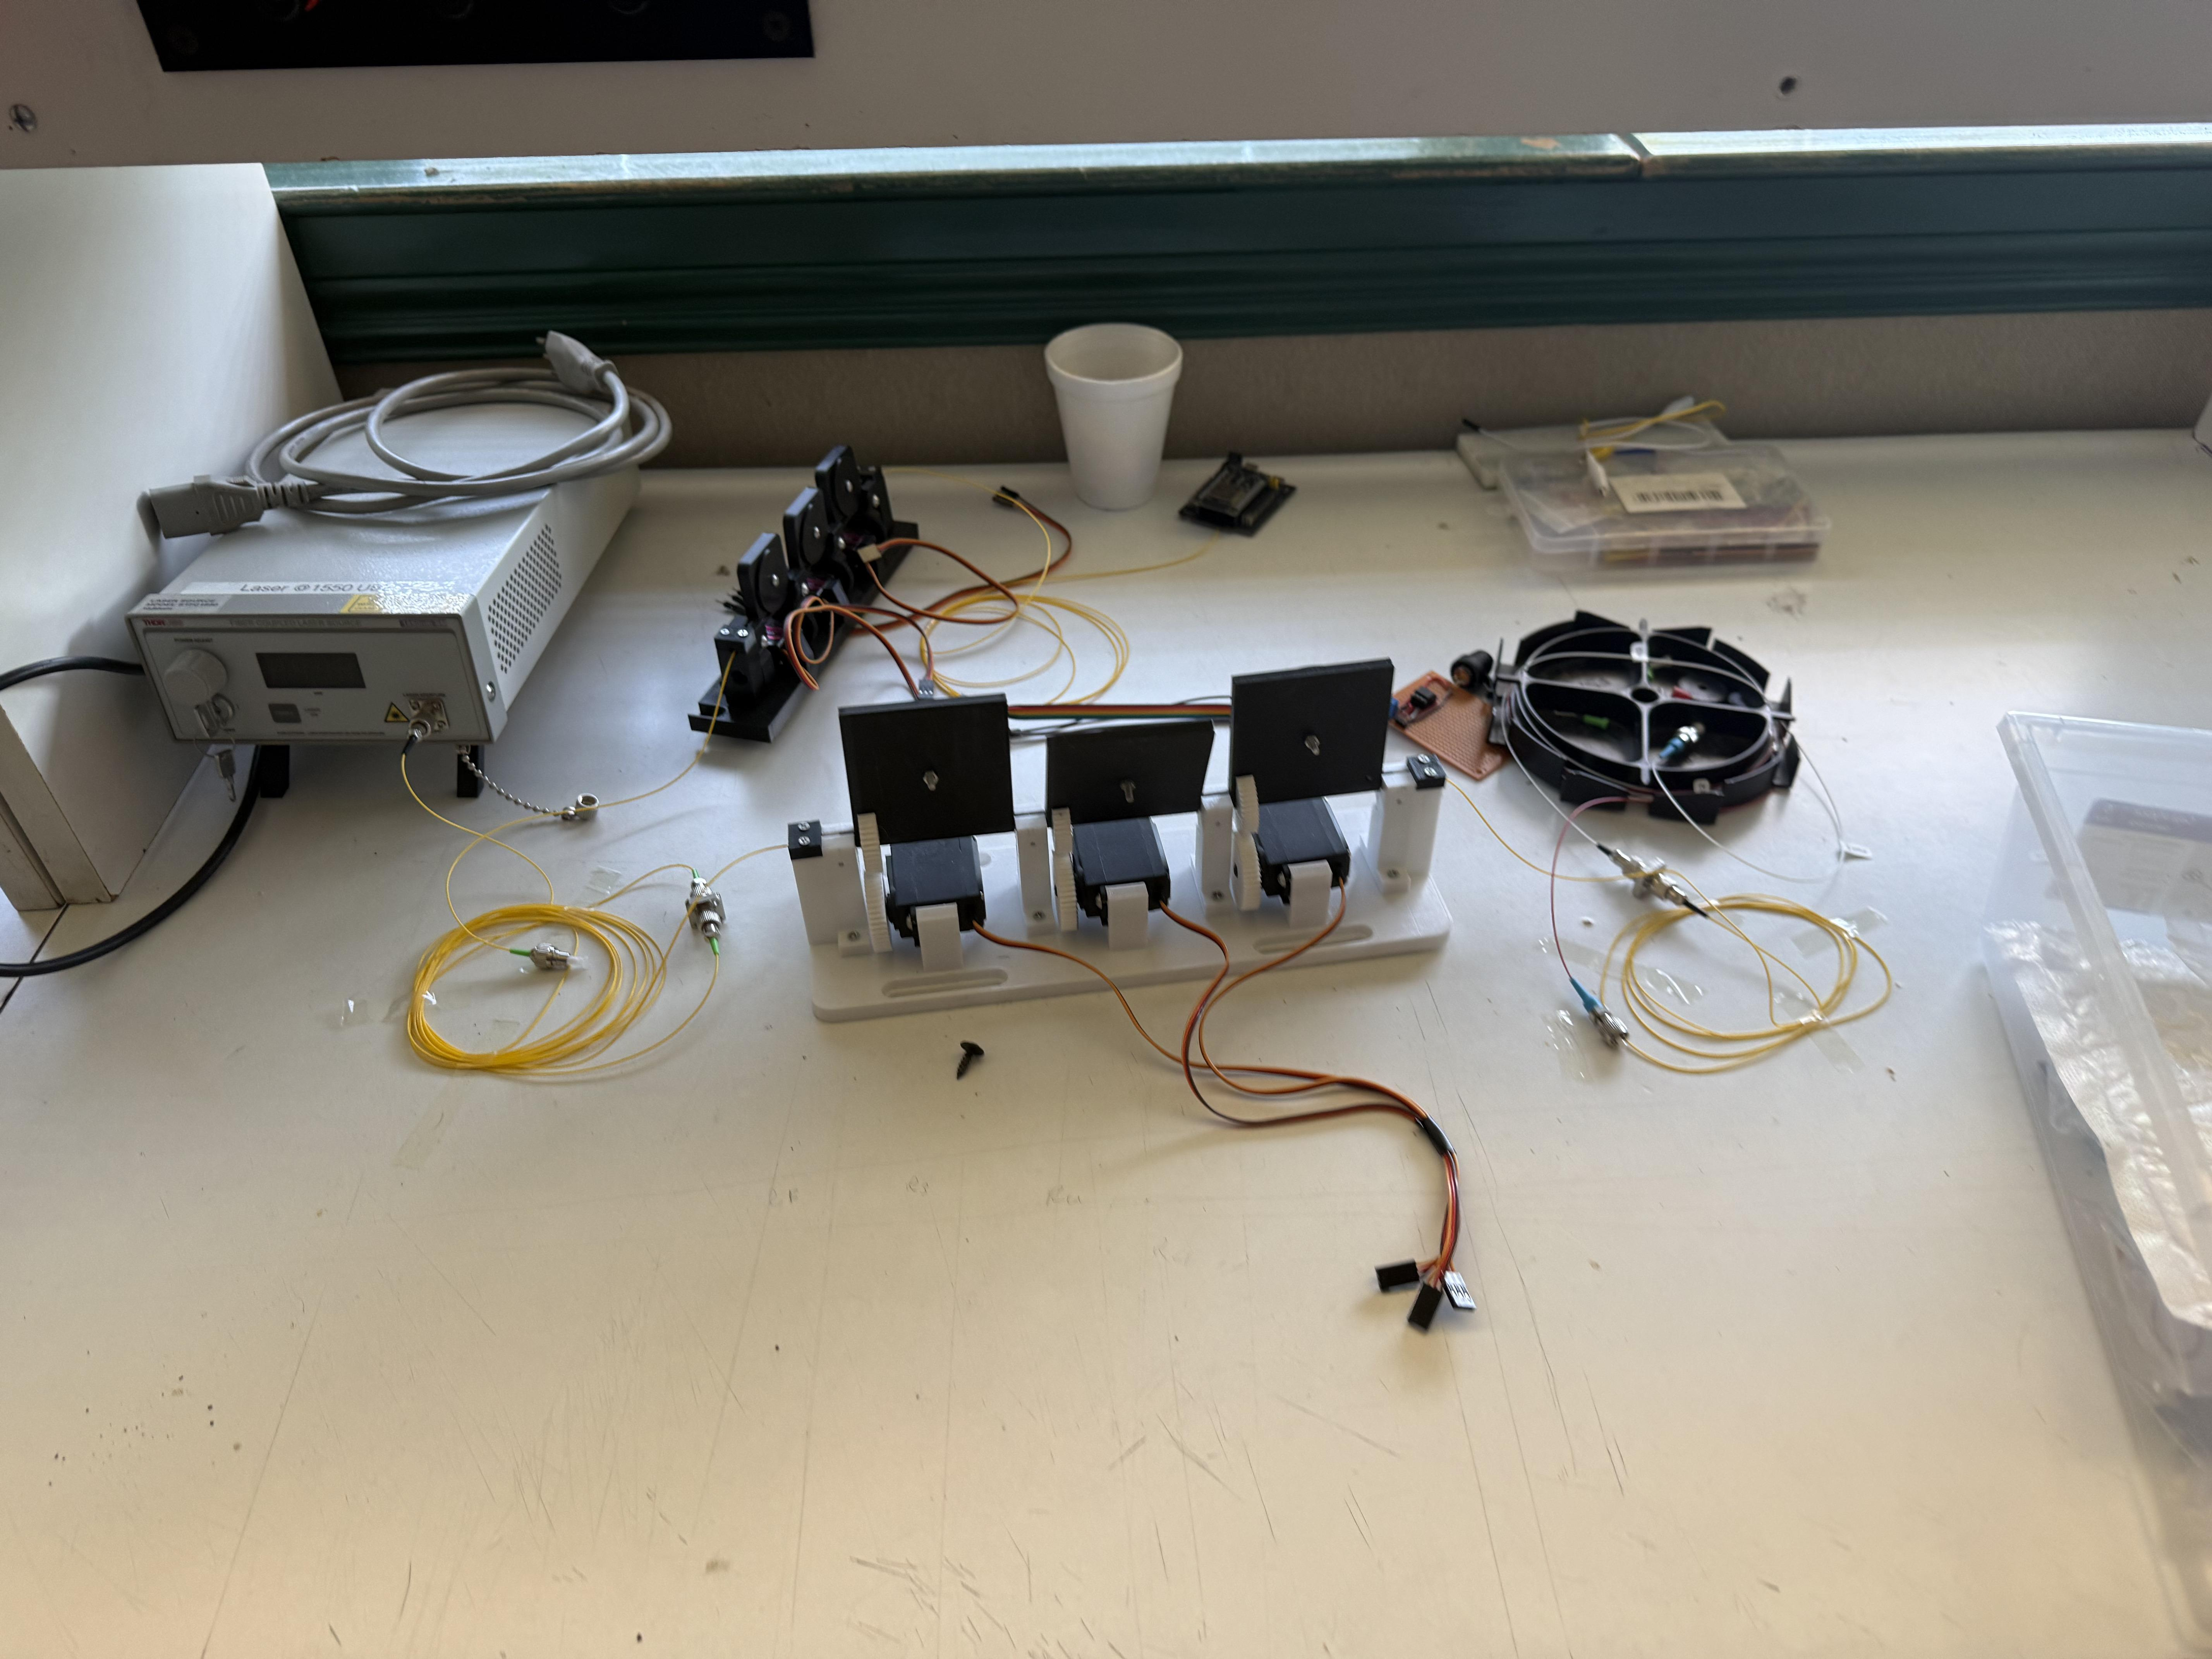fiber_cable: (385, 896, 665, 1086)
laser: (111, 375, 658, 802)
paddle_polarization_controller: (768, 647, 1480, 1060), (660, 420, 937, 763)
